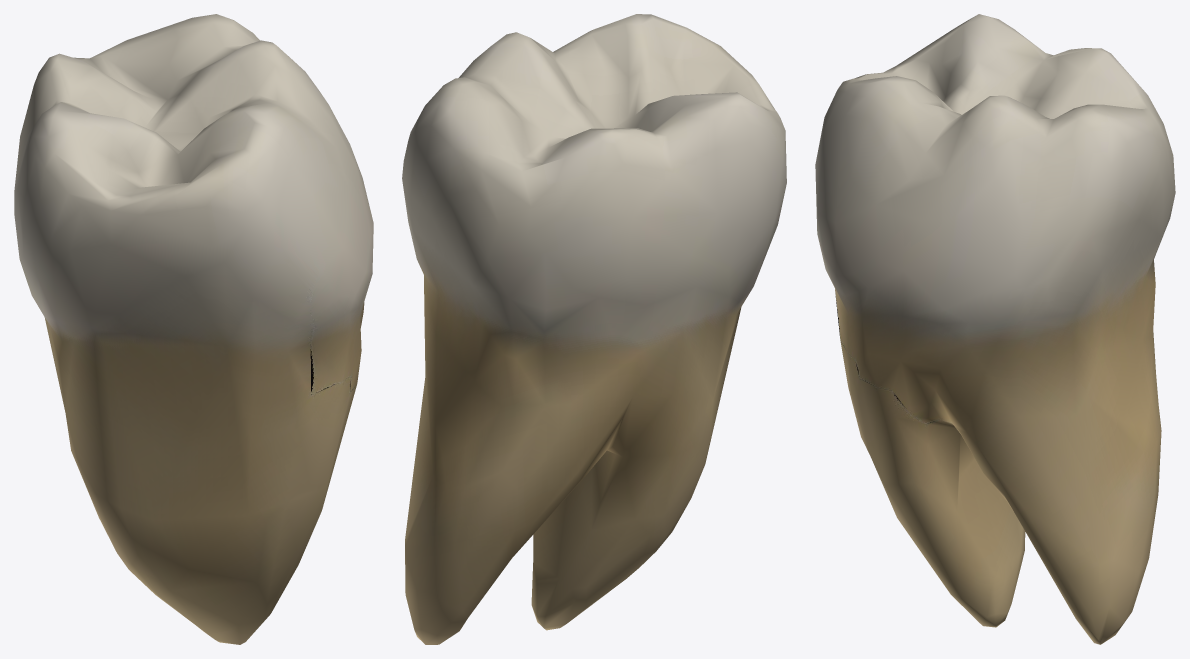
File: mandibular_first_molar.glb
3 views of the same model, side by side, from view 1: azimuth 30°, elevation 25°; view 2: azimuth 150°, elevation 25°; view 3: azimuth 270°, elevation 25° (orthographic). The views are drawn at different scales.
Visible parts, largest first — view 1: Object_2; view 2: Object_2; view 3: Object_2.
Boxes of the visible parts, x1,y1,x2,y2 form: Object_2: (14,14,373,644); Object_2: (402,14,786,644); Object_2: (815,14,1175,644).
Size of the model in its own units: 1.09 by 1.83 by 1.1.
Materials: 1 (1 with a texture image).
